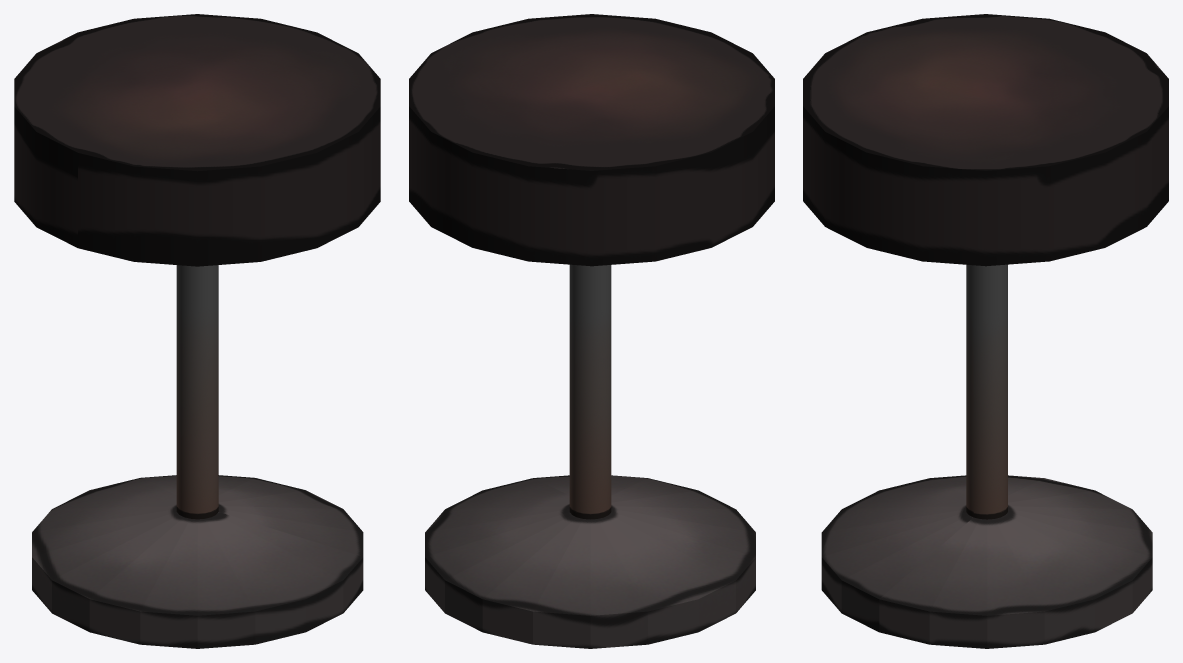
The model's file is circle_chair.fbx.
3 renders of one model, left to right at view 1: azimuth 30°, elevation 25°; view 2: azimuth 150°, elevation 25°; view 3: azimuth 270°, elevation 25°, orthographic.
Visible parts, largest first — view 1: Cylinder002; view 2: Cylinder002; view 3: Cylinder002.
Part boxes in pixels (x1,y1,x2,y2): Cylinder002: (14,14,380,648); Cylinder002: (409,14,774,648); Cylinder002: (803,14,1168,648).
Bounding box in the file's own units: 15.75 × 22.7 × 15.51.
